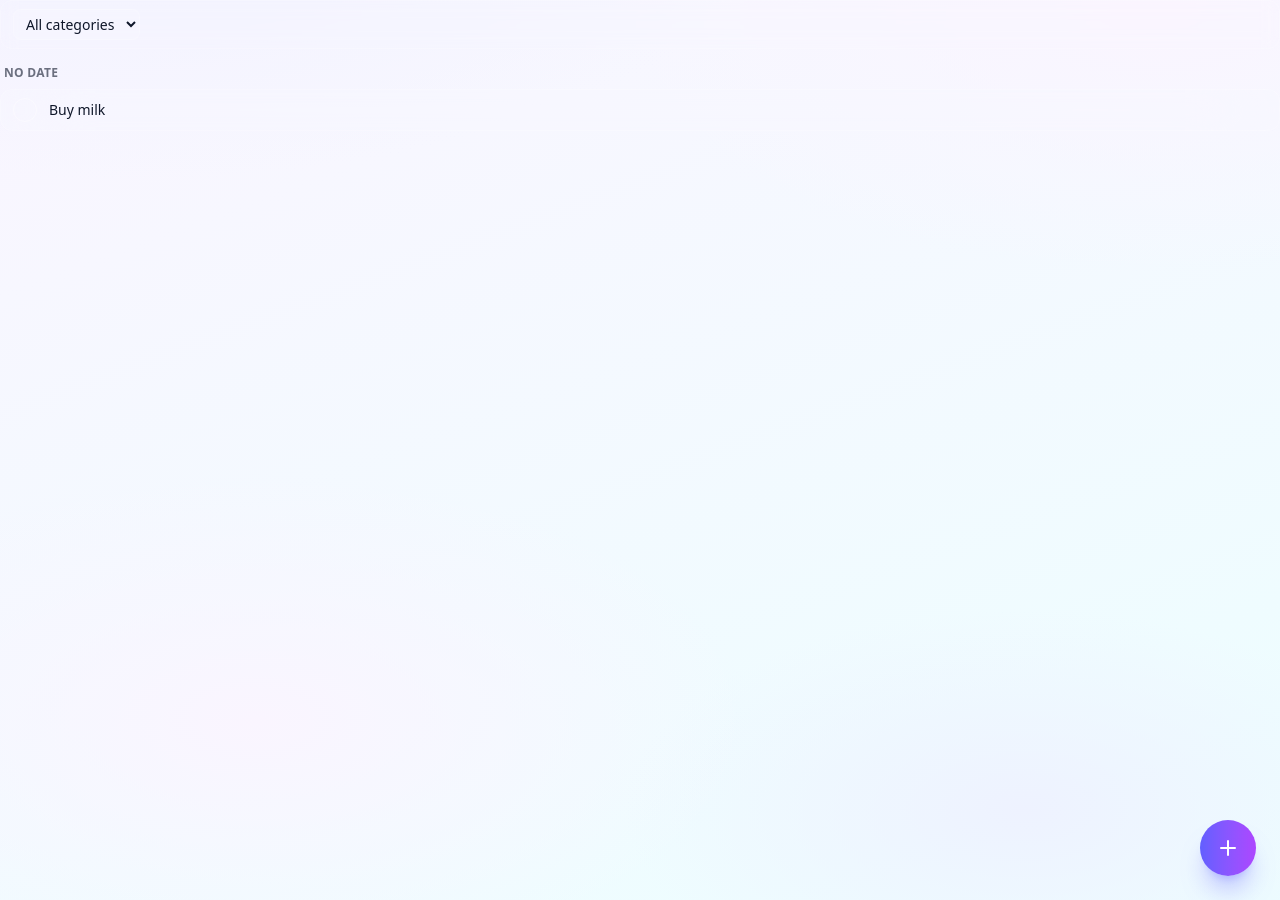
Test case: TaskList › opens the edit modal pre-filled when a task is clicked
Click the button with aria-label "edit buy milk" at (77, 110), box 49,100 -> 1267,120
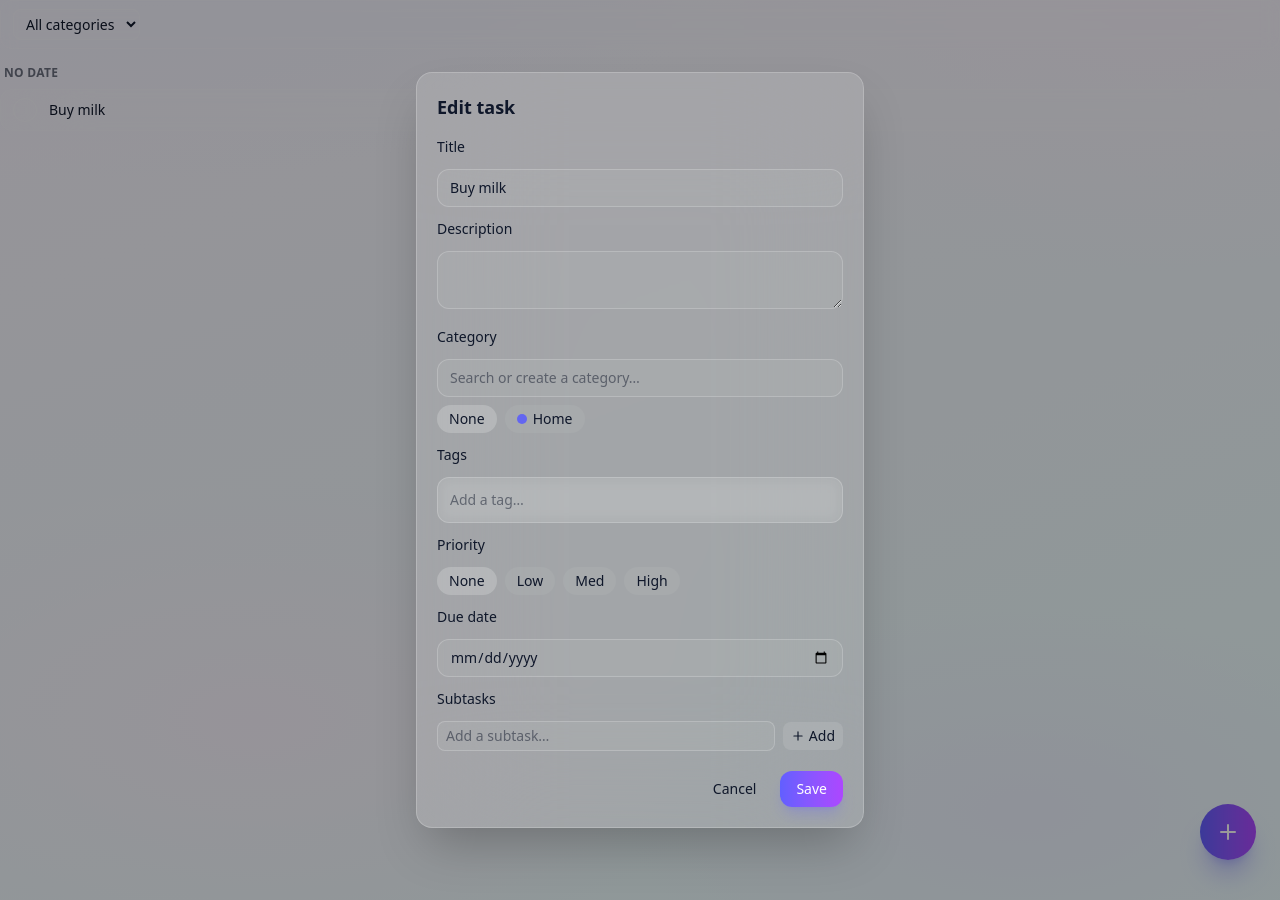
Now the field showing "Buy milk" is shown, box 437,169 -> 843,207
